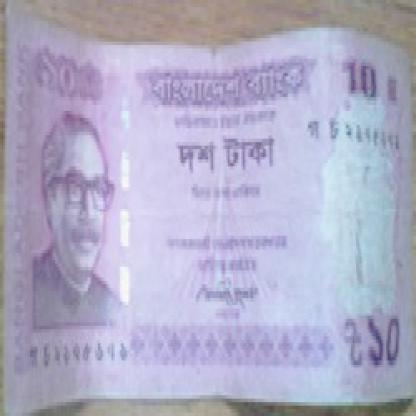Ten Taka: (33, 38, 98, 104), (341, 35, 386, 114), (362, 301, 408, 378)
